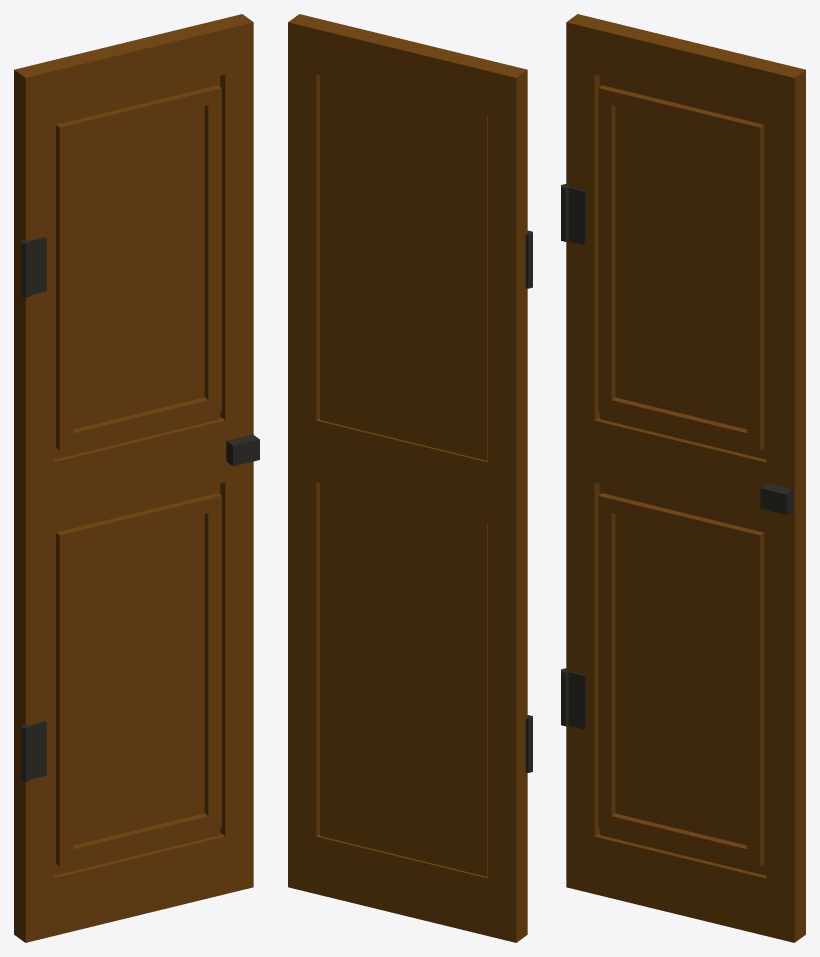
File: SM_Wall_PhDoor_Left_01.fbx
3 views of the same model, side by side, from view 1: azimuth 30°, elevation 25°; view 2: azimuth 150°, elevation 25°; view 3: azimuth 330°, elevation 25° (orthographic).
Parts seen in each view (by area): view 1: SM_Wall_PhDoor_Left_01; view 2: SM_Wall_PhDoor_Left_01; view 3: SM_Wall_PhDoor_Left_01.
Boxes of the visible parts, <box> form: SM_Wall_PhDoor_Left_01: <box>14,14,259,942</box>; SM_Wall_PhDoor_Left_01: <box>288,14,532,942</box>; SM_Wall_PhDoor_Left_01: <box>561,14,805,942</box>.
Size of the model in its own units: 0.592 by 2.1 by 0.08.
Materials: 1 (1 with a texture image).
